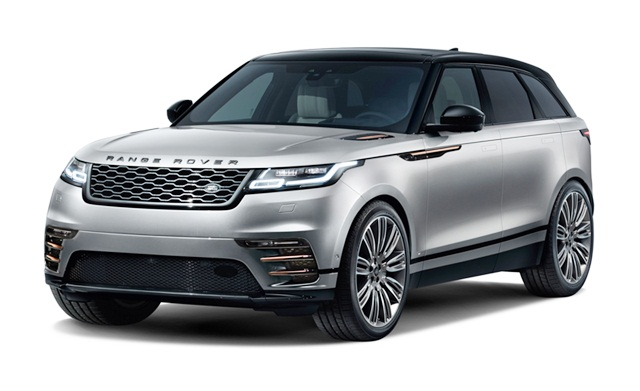pickup: (43, 44, 595, 341)
